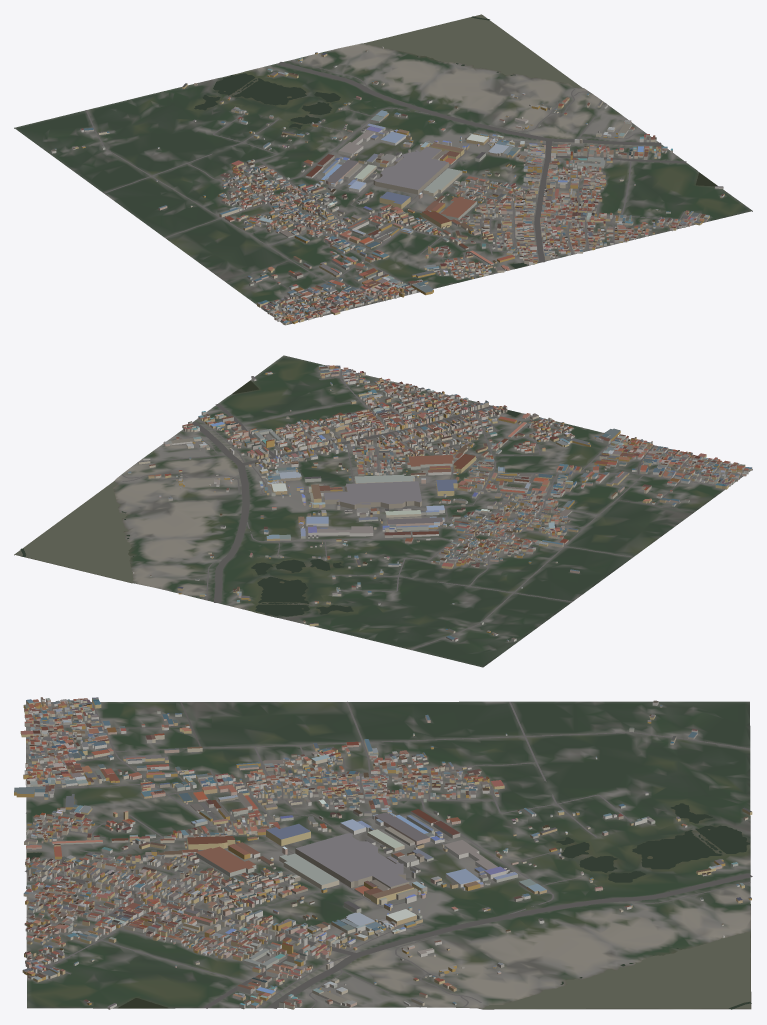
The picture shows the model from 3 angles, top to bottom: view 1: azimuth 30°, elevation 25°; view 2: azimuth 150°, elevation 25°; view 3: azimuth 270°, elevation 25°; orthographic projection. The views are drawn at different scales.
Visible parts, largest first — view 1: ground, buildings, water, roads; view 2: ground, buildings, water, roads; view 3: ground, buildings, water, roads.
Boxes of the visible parts, x1,y1,x2,y2 form: ground: (14, 16, 752, 324); buildings: (51, 46, 724, 325); water: (194, 14, 717, 268); roads: (85, 60, 694, 323); ground: (14, 355, 752, 667); buildings: (128, 365, 752, 641); water: (15, 380, 520, 616); roads: (122, 369, 745, 649); ground: (26, 701, 751, 1009); buildings: (14, 697, 752, 1009); water: (27, 803, 751, 1009); roads: (25, 701, 752, 1008).
Bounding box in the file's own units: 1414 × 26.29 × 1430.
